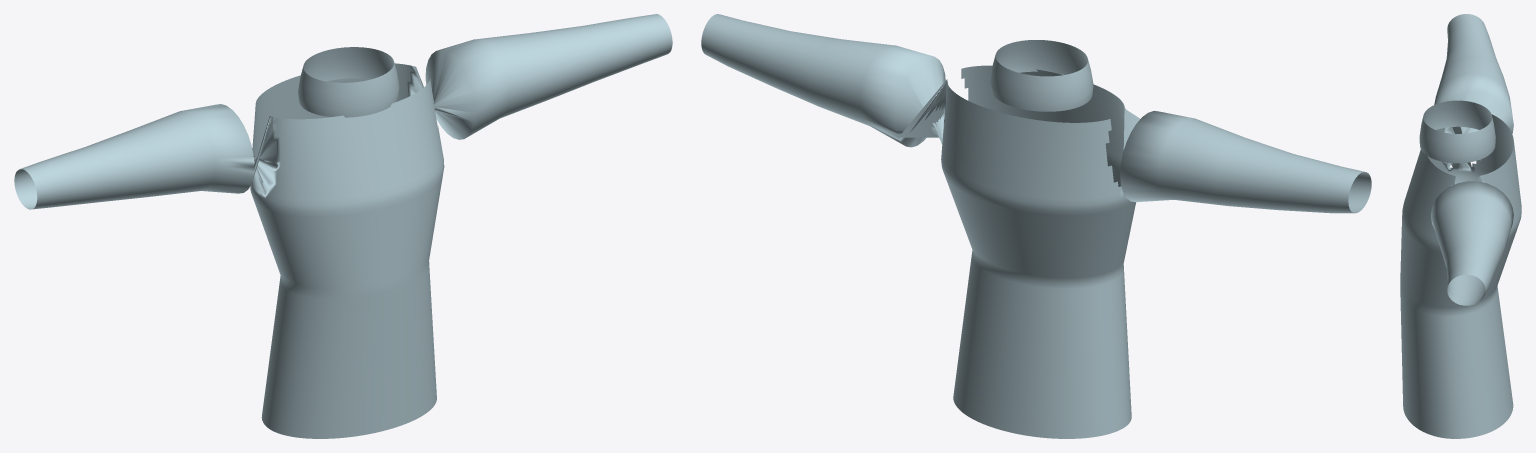
File: garment-v3-prototype.glb
3 renders of one model, left to right at view 1: azimuth 30°, elevation 25°; view 2: azimuth 150°, elevation 25°; view 3: azimuth 270°, elevation 25°, orthographic. The views are drawn at different scales.
Parts seen in each view (by area): view 1: ATEL-23 shirt v3 prototype; view 2: ATEL-23 shirt v3 prototype; view 3: ATEL-23 shirt v3 prototype.
Part boxes in pixels (x1,y1,x2,y2): ATEL-23 shirt v3 prototype: (14, 14, 672, 438); ATEL-23 shirt v3 prototype: (701, 14, 1371, 438); ATEL-23 shirt v3 prototype: (1400, 14, 1521, 438).
Size of the model in its own units: 1.47 by 0.758 by 0.2898.
